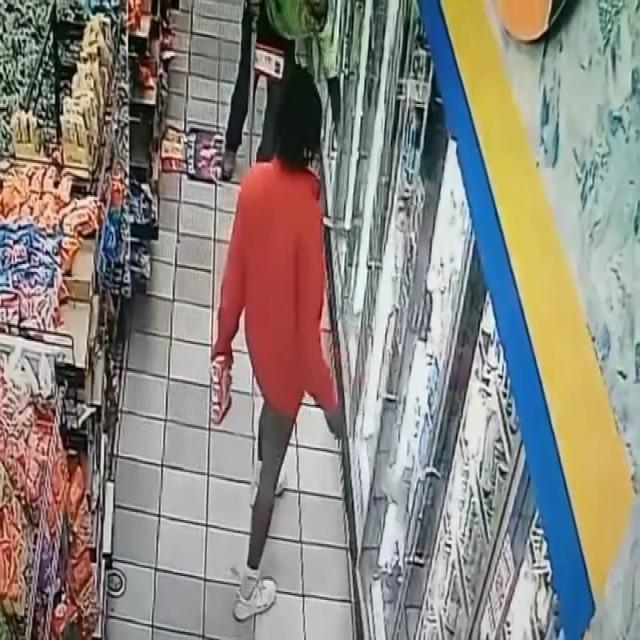Normal: (207, 67, 350, 638), (217, 0, 350, 187)
